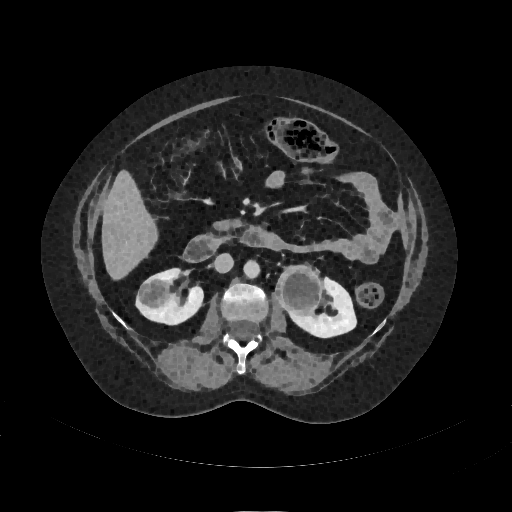Lesion: (274, 263, 325, 318)
